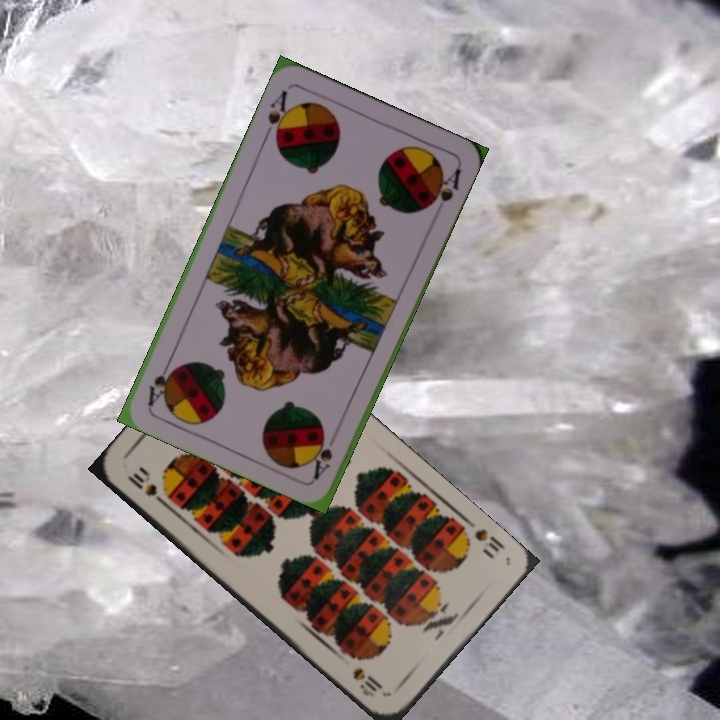S10: (123, 468, 169, 509), (470, 524, 507, 555)
SA: (260, 86, 294, 145), (309, 432, 335, 482)
